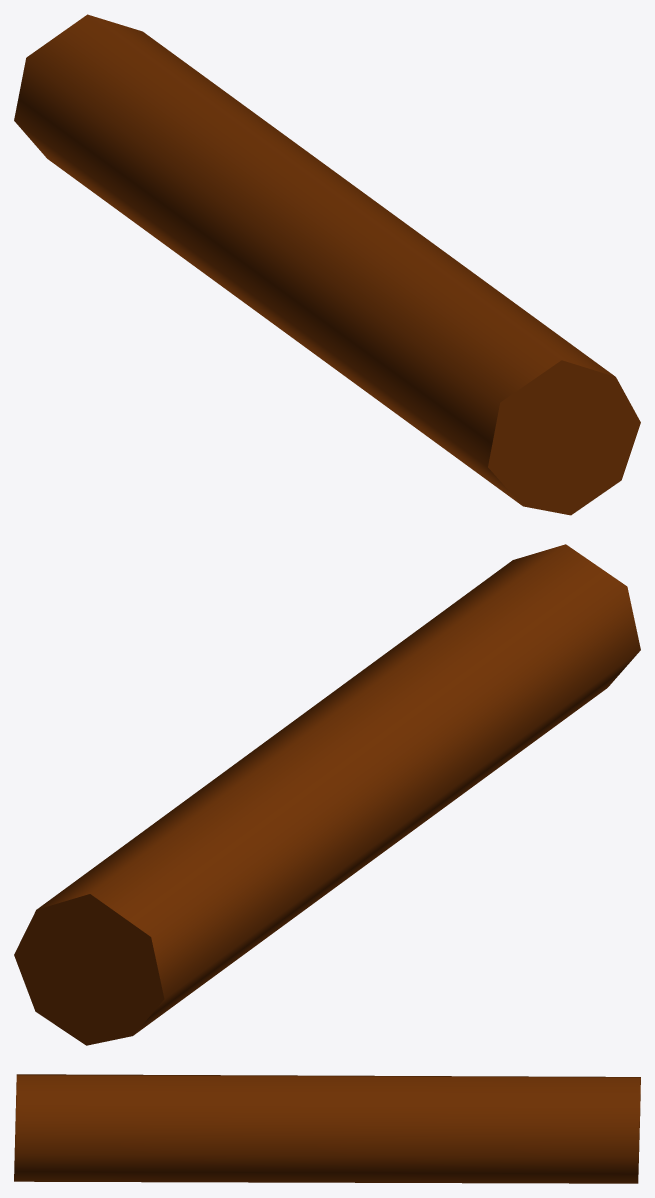
File: log.fbx
The picture shows the model from 3 angles, top to bottom: view 1: azimuth 30°, elevation 25°; view 2: azimuth 150°, elevation 25°; view 3: azimuth 270°, elevation 25°; orthographic projection. The views are drawn at different scales.
Visible parts, largest first — view 1: log; view 2: log; view 3: log.
Boxes of the visible parts, x1=… form: log: x1=14, y1=14, x2=640, y2=515; log: x1=14, y1=544, x2=640, y2=1045; log: x1=14, y1=1074, x2=640, y2=1183.
Bounding box in the file's own units: 46.09 × 45.2 × 249.
